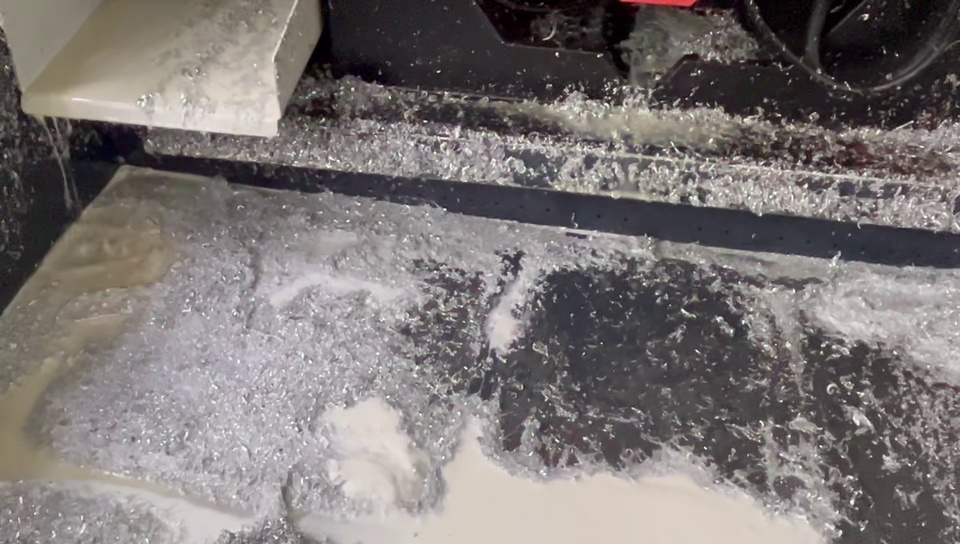iron_scrap: (51, 371, 319, 474), (286, 70, 521, 185), (767, 250, 959, 379), (261, 195, 516, 287), (124, 292, 399, 368), (323, 374, 455, 451), (3, 483, 159, 542), (173, 182, 250, 288), (180, 479, 352, 511), (227, 520, 311, 542)
